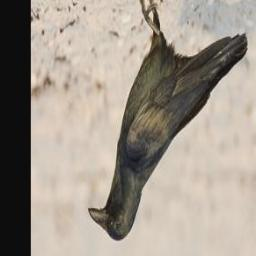Crow: (85, 0, 249, 245)
